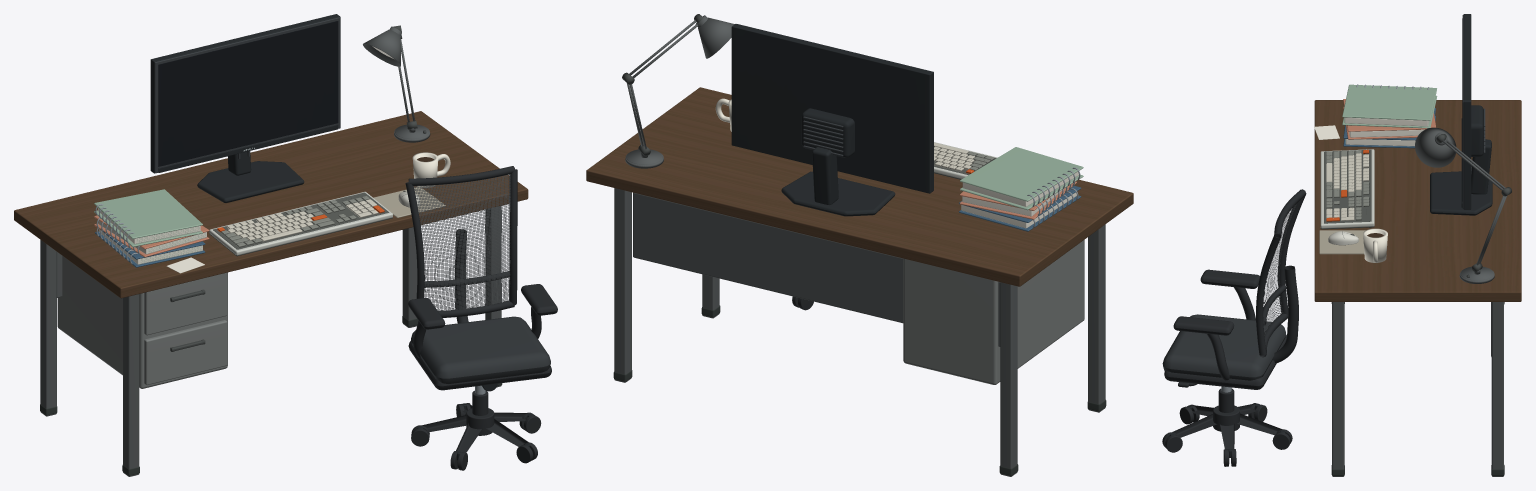
The model's file is little-office-desk.glb.
3 renders of one model, left to right at view 1: azimuth 30°, elevation 25°; view 2: azimuth 150°, elevation 25°; view 3: azimuth 270°, elevation 25°, orthographic. The views are drawn at different scales.
Visible parts, largest first — view 1: Desk / solid walnut top, Monitor / flat display, Chair / woven open mesh back, Chair / thick fabric seat, Drawer cabinet, Drawer front.001, Drawer front, School notebook / top cover.002, Desk / square steel leg, Desk / square steel leg.001, Monitor / angular stand base, Monitor / narrow front frame (+18 smaller); view 2: Desk / solid walnut top, Monitor / flat rear shell, Desk / rear modesty panel, Drawer cabinet, School notebook / top cover.002, Desk / square steel leg.003, Desk / square steel leg.001, Desk / square steel leg, Monitor / angular stand base, Monitor / rear mounting block, Monitor / upright stand, Lamp / conical shade (+4 smaller); view 3: Desk / solid walnut top, Chair / thick fabric seat, School notebook / top cover.002, Desk / square steel leg.003, Desk / square steel leg.002, Monitor / angular stand base, Monitor / flat rear shell, Keyboard / recessed deck, Lamp / conical shade, Chair / rear structural support, Chair / seat lower shell, Chair / woven open mesh back (+19 smaller).
Boxes of the visible parts, left/top/right/bottom form: Desk / solid walnut top: left=14, top=111, right=528, bottom=298; Monitor / flat display: left=158, top=21, right=338, bottom=166; Chair / woven open mesh back: left=413, top=174, right=510, bottom=311; Chair / thick fabric seat: left=411, top=316, right=550, bottom=383; Drawer cabinet: left=57, top=256, right=227, bottom=388; Drawer front.001: left=144, top=320, right=227, bottom=385; Drawer front: left=144, top=272, right=227, bottom=335; School notebook / top cover.002: left=94, top=189, right=202, bottom=238; Desk / square steel leg: left=123, top=294, right=139, bottom=476; Desk / square steel leg.001: left=40, top=240, right=56, bottom=416; Monitor / angular stand base: left=197, top=161, right=304, bottom=202; Monitor / narrow front frame: left=154, top=17, right=340, bottom=173; Desk / solid walnut top: left=586, top=87, right=1133, bottom=286; Monitor / flat rear shell: left=731, top=24, right=933, bottom=193; Desk / rear modesty panel: left=633, top=192, right=1000, bottom=346; Drawer cabinet: left=903, top=240, right=1084, bottom=384; School notebook / top cover.002: left=960, top=147, right=1083, bottom=201; Desk / square steel leg.003: left=614, top=188, right=631, bottom=382; Desk / square steel leg.001: left=1000, top=282, right=1017, bottom=476; Desk / square steel leg: left=1088, top=224, right=1105, bottom=412; Monitor / angular stand base: left=781, top=171, right=895, bottom=216; Monitor / rear mounting block: left=801, top=108, right=854, bottom=157; Monitor / upright stand: left=812, top=147, right=838, bottom=204; Lamp / conical shade: left=698, top=17, right=734, bottom=58; Desk / solid walnut top: left=1314, top=100, right=1521, bottom=301; Chair / thick fabric seat: left=1162, top=314, right=1286, bottom=380; School notebook / top cover.002: left=1342, top=84, right=1436, bottom=120; Desk / square steel leg.003: left=1491, top=302, right=1503, bottom=476; Desk / square steel leg.002: left=1332, top=302, right=1344, bottom=476; Monitor / angular stand base: left=1430, top=171, right=1492, bottom=215; Monitor / flat rear shell: left=1463, top=14, right=1471, bottom=209; Keyboard / recessed deck: left=1324, top=149, right=1371, bottom=223; Lamp / conical shade: left=1415, top=127, right=1456, bottom=167; Chair / rear structural support: left=1273, top=265, right=1298, bottom=363; Chair / seat lower shell: left=1164, top=335, right=1286, bottom=389; Chair / woven open mesh back: left=1263, top=204, right=1296, bottom=335.
Size of the model in its own units: 3.85 by 3.1 by 3.04.
Materials: 33 (1 with a texture image).
